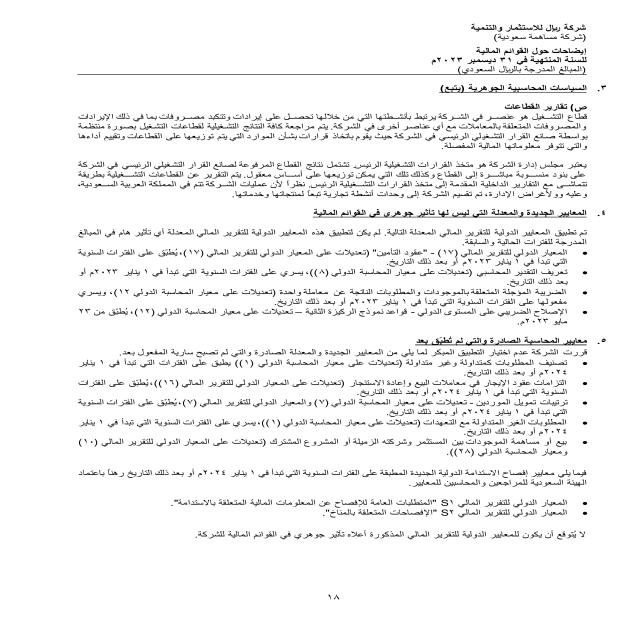notes: (460, 45, 594, 57)
text: (47, 95, 603, 548)
